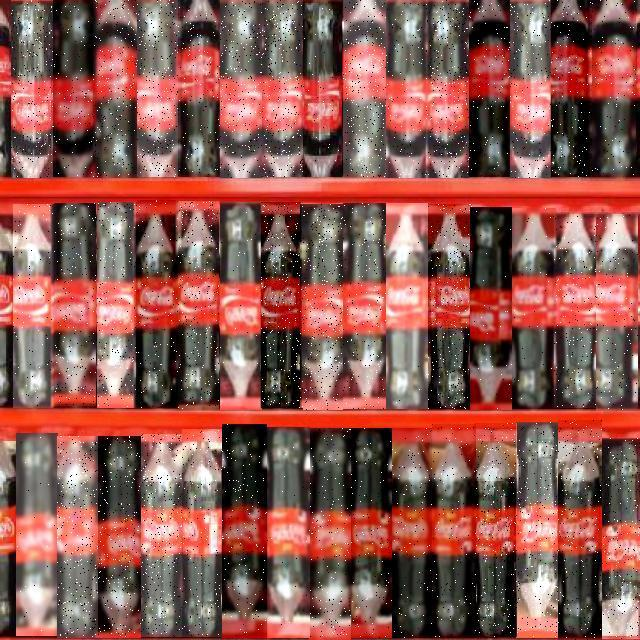Drinks: (558, 420, 602, 640), (222, 425, 267, 639), (265, 427, 310, 638), (432, 425, 476, 639), (474, 423, 517, 637), (517, 422, 559, 638), (428, 204, 472, 410), (309, 428, 351, 640), (343, 203, 386, 409), (512, 208, 556, 409), (392, 428, 434, 638), (350, 428, 392, 638), (138, 201, 180, 409), (220, 202, 262, 410), (262, 203, 304, 409), (386, 203, 428, 409), (55, 204, 97, 408), (14, 204, 56, 408), (471, 207, 513, 410), (16, 433, 58, 636), (99, 437, 141, 639), (58, 436, 100, 638), (141, 434, 182, 637), (179, 202, 219, 410), (183, 429, 223, 637), (596, 214, 638, 411), (98, 203, 138, 409), (303, 204, 343, 410), (555, 214, 597, 408), (600, 438, 640, 639), (93, 0, 138, 178), (592, 0, 636, 177), (11, 0, 54, 178), (426, 0, 469, 178), (53, 0, 96, 177), (221, 0, 263, 178), (387, 0, 429, 178), (510, 0, 552, 178), (138, 0, 180, 177), (179, 0, 221, 177), (262, 0, 304, 177), (304, 0, 346, 177), (345, 0, 387, 177), (469, 0, 511, 177), (552, 0, 592, 177)
